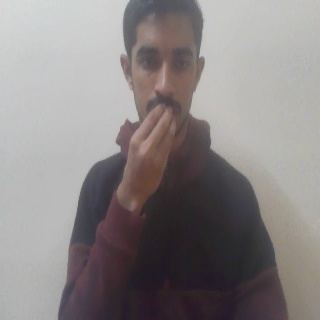Food: (120, 101, 180, 214)
